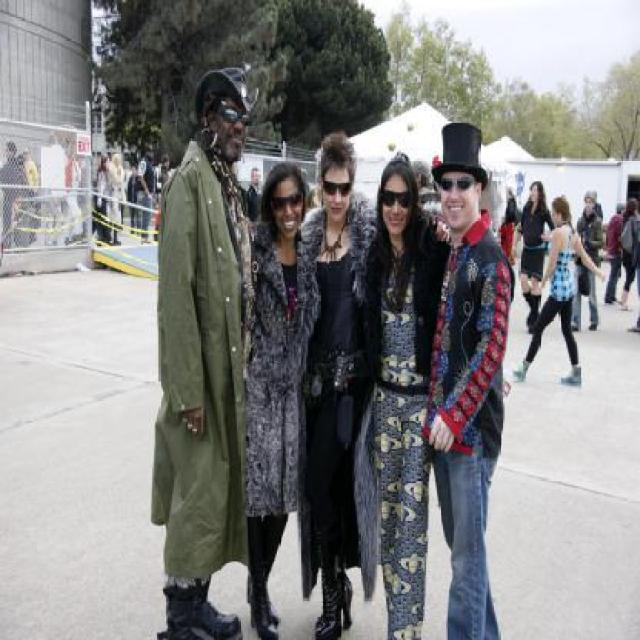Person: (92, 70, 638, 638), (424, 120, 516, 620), (0, 140, 34, 249)
